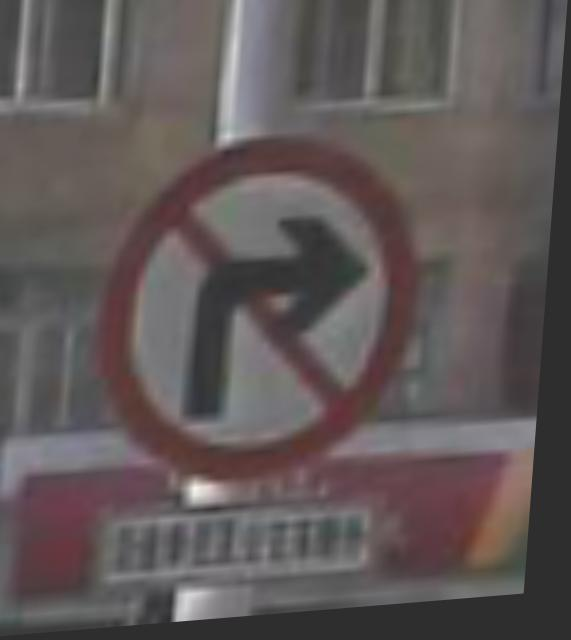not_turn_right: (98, 129, 444, 488)
